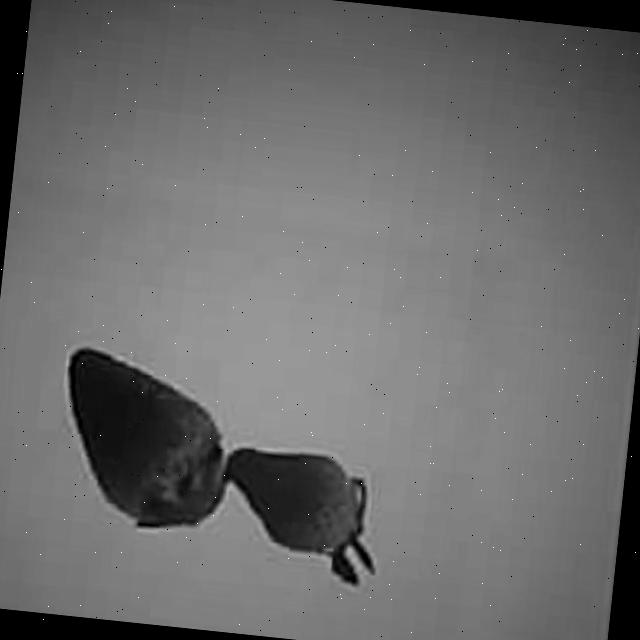ripe: (55, 343, 236, 528), (226, 444, 368, 558)
